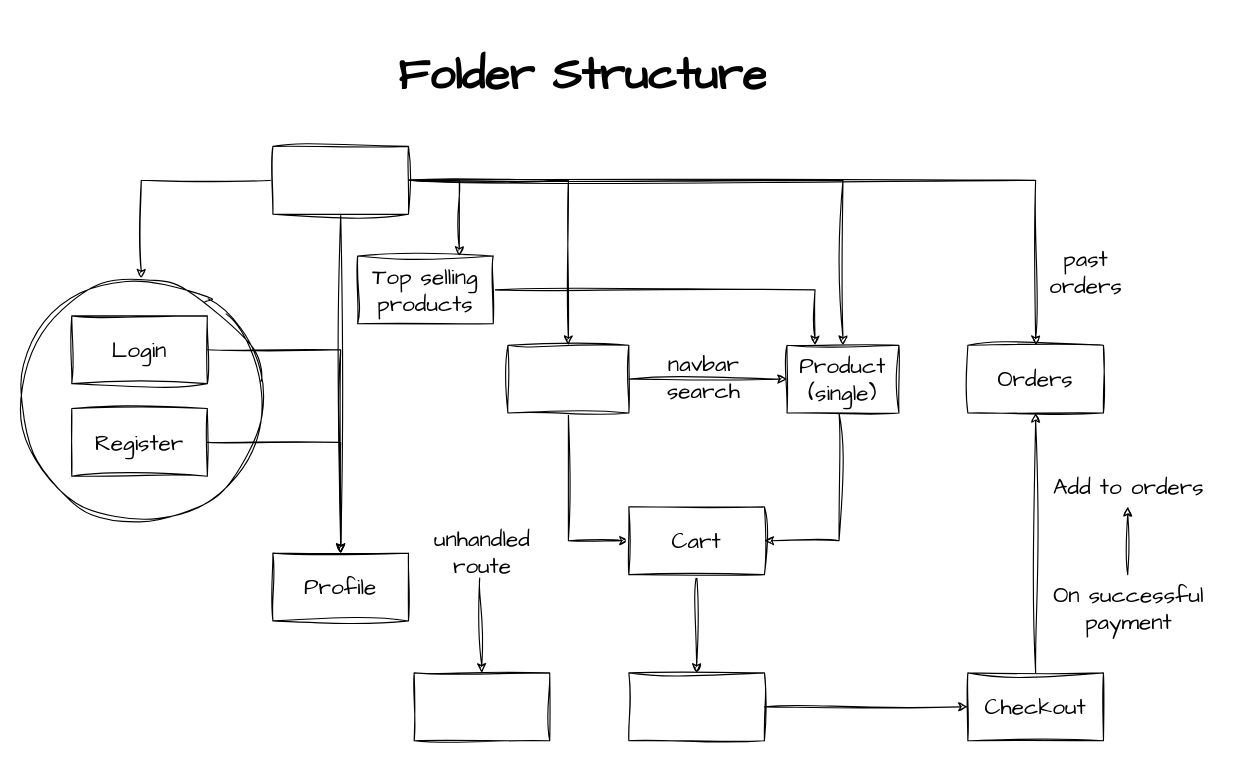
This 1233x760 diagram has some shape labels left out. Each missing label, with the box of its shape:
Home: (272, 145, 408, 214)
Page 404: (413, 672, 550, 741)
Payment: (628, 672, 764, 741)
Search Page: (507, 344, 629, 413)
